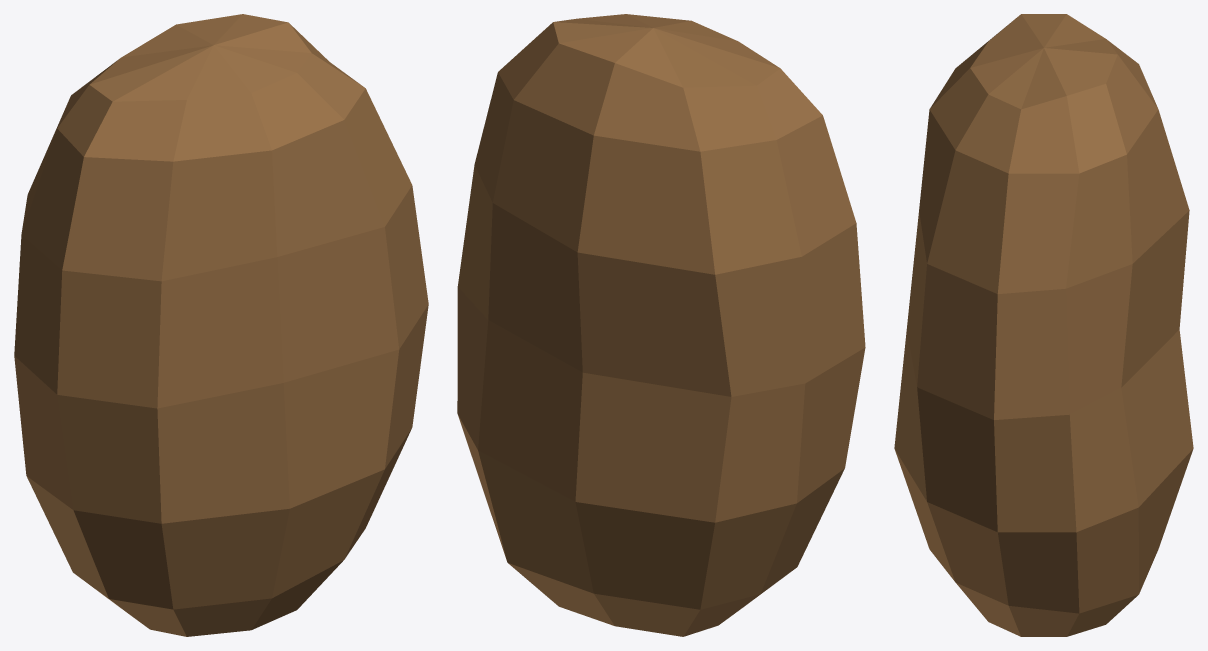
The model's file is Ma_Potato.fbx.
3 renders of one model, left to right at view 1: azimuth 30°, elevation 25°; view 2: azimuth 150°, elevation 25°; view 3: azimuth 270°, elevation 25°, orthographic. The views are drawn at different scales.
Visible parts, largest first — view 1: Ma_Potato; view 2: Ma_Potato; view 3: Ma_Potato.
Part boxes in pixels (x1,y1,x2,y2): Ma_Potato: [14, 14, 428, 636]; Ma_Potato: [457, 14, 865, 636]; Ma_Potato: [894, 14, 1193, 636].
Bounding box in the file's own units: 82.4 × 58.52 × 123.
